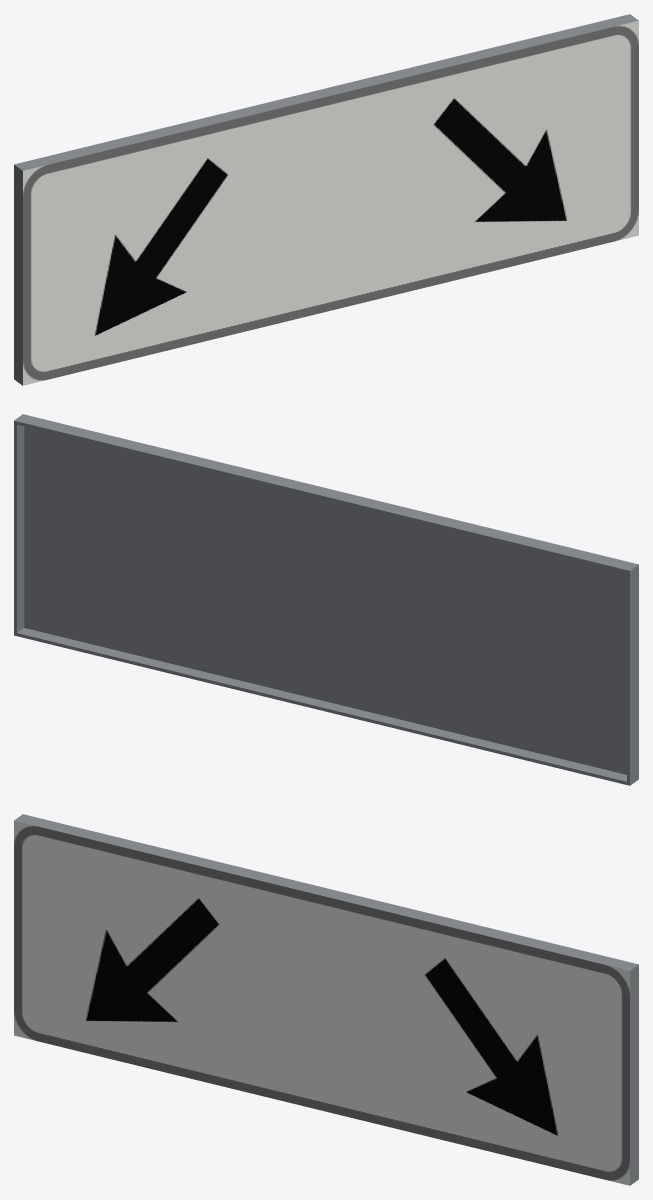
3 views of the same model, one above another, from view 1: azimuth 30°, elevation 25°; view 2: azimuth 150°, elevation 25°; view 3: azimuth 330°, elevation 25° (orthographic).
Parts seen in each view (by area): view 1: OB504; view 2: OB504; view 3: OB504.
Boxes of the visible parts, box(x1,y1,x2,y2) form: OB504: box(14, 14, 638, 385); OB504: box(14, 414, 638, 785); OB504: box(14, 814, 638, 1185).
Bounding box in the file's own units: 0.6 × 0.015 × 0.2.
2 materials, 1 textured.
